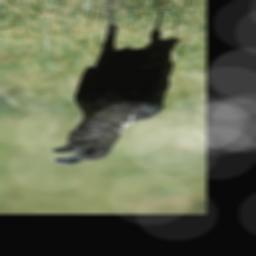Crow: (45, 0, 184, 169)
